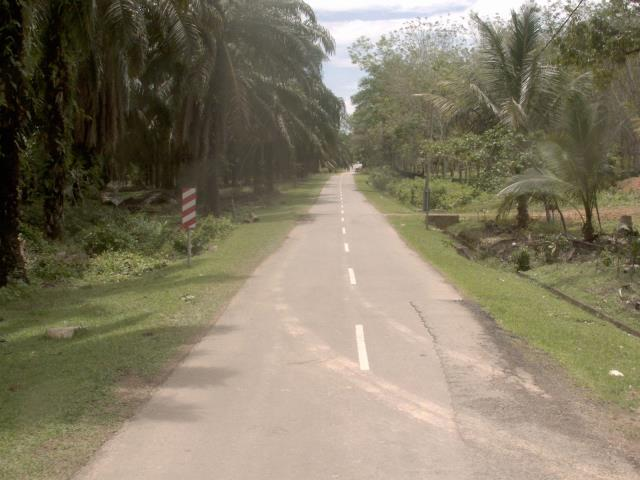traffic_sign: (174, 177, 204, 242)
